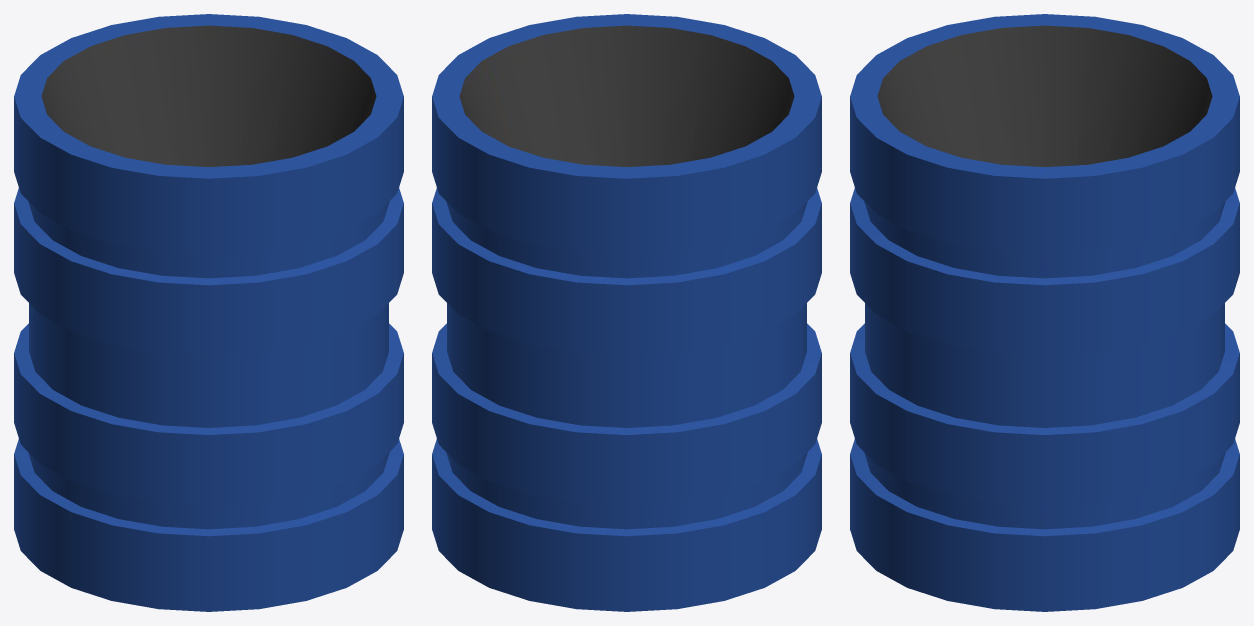
The model's file is tool_rimmer_barrel.glb.
3 views of the same model, side by side, from view 1: azimuth 30°, elevation 25°; view 2: azimuth 150°, elevation 25°; view 3: azimuth 270°, elevation 25° (orthographic).
Parts seen in each view (by area): view 1: tool_rimmer_barrel; view 2: tool_rimmer_barrel; view 3: tool_rimmer_barrel.
Boxes of the visible parts, left/top/right/bottom form: tool_rimmer_barrel: left=14, top=14, right=403, bottom=611; tool_rimmer_barrel: left=432, top=14, right=821, bottom=611; tool_rimmer_barrel: left=850, top=14, right=1239, bottom=611.
Size of the model in its own units: 0.053 by 0.0653 by 0.053.
1 material, 1 textured.
